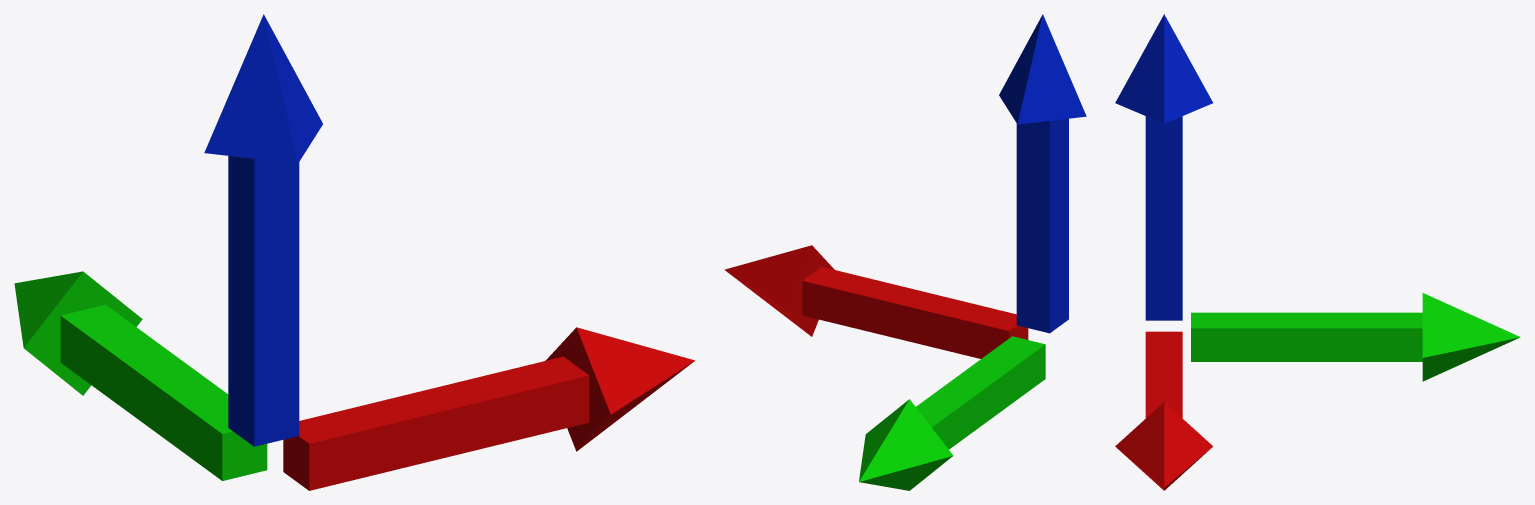
The model's file is Vector.obj.
The picture shows the model from 3 angles, left to right: view 1: azimuth 30°, elevation 25°; view 2: azimuth 150°, elevation 25°; view 3: azimuth 270°, elevation 25°; orthographic projection. The views are drawn at different scales.
Parts seen in each view (by area): view 1: Cone.001; view 2: Cone.001; view 3: Cone.001.
Part boxes in pixels (<box>): Cone.001: <box>14,14,694,490</box>; Cone.001: <box>724,14,1086,490</box>; Cone.001: <box>1115,14,1520,490</box>.
Bounding box in the file's own units: 0.8254 × 0.8254 × 0.8254.
